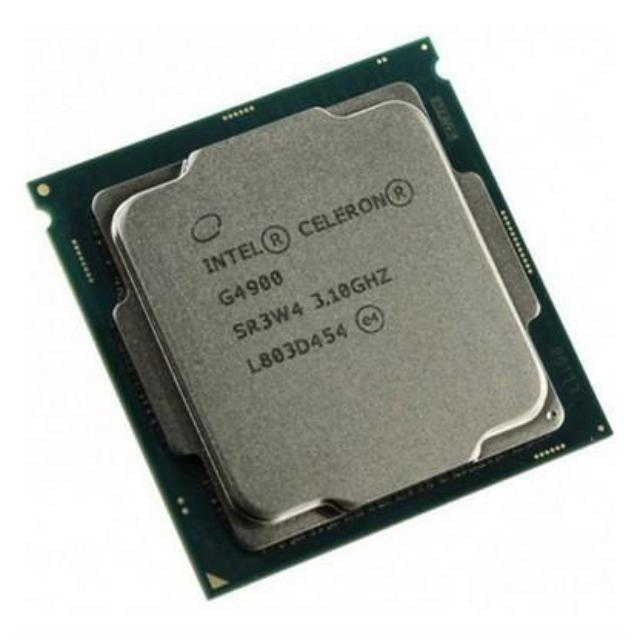CPU: (45, 50, 590, 588)
